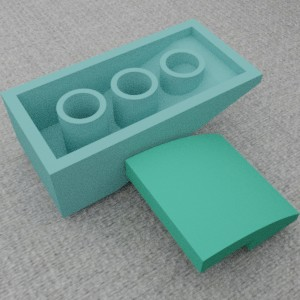lego: (0, 18, 263, 218), (125, 133, 299, 273)
